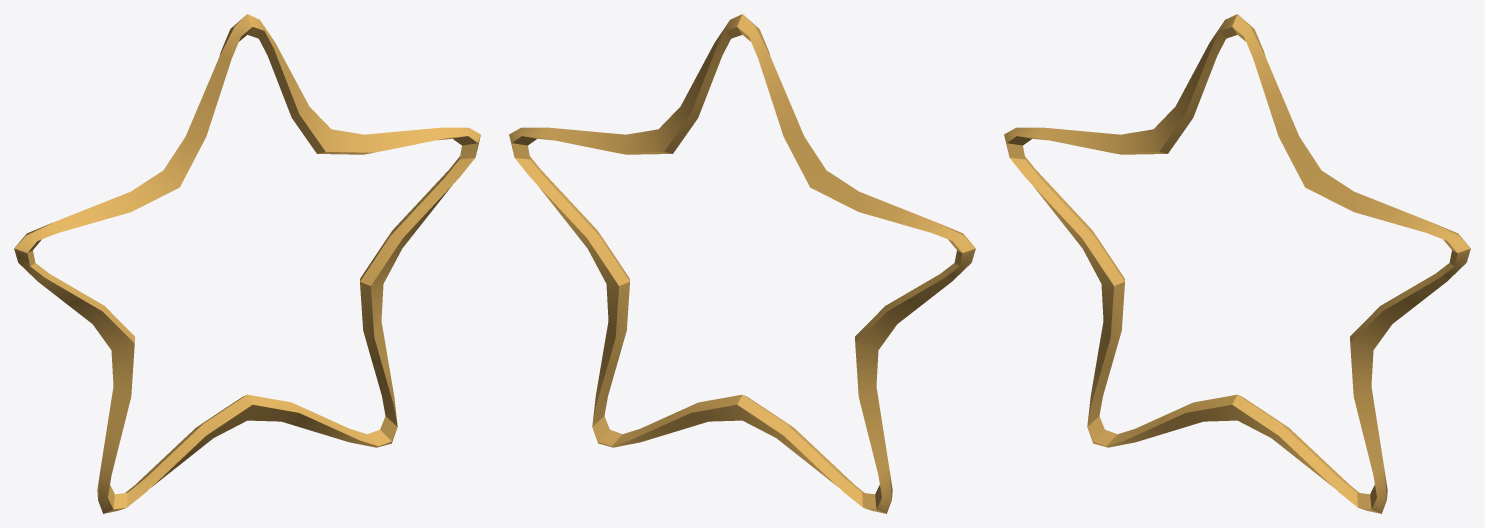
File: Star_Outline.gltf
3 renders of one model, left to right at view 1: azimuth 30°, elevation 25°; view 2: azimuth 150°, elevation 25°; view 3: azimuth 330°, elevation 25°, orthographic.
Visible parts, largest first — view 1: Star_Outline; view 2: Star_Outline; view 3: Star_Outline.
Part boxes in pixels (x1,y1,x2,y2): Star_Outline: (14,14,480,513); Star_Outline: (509,14,975,513); Star_Outline: (1004,14,1470,513).
Bounding box in the file's own units: 1.51 × 1.44 × 0.0594.
